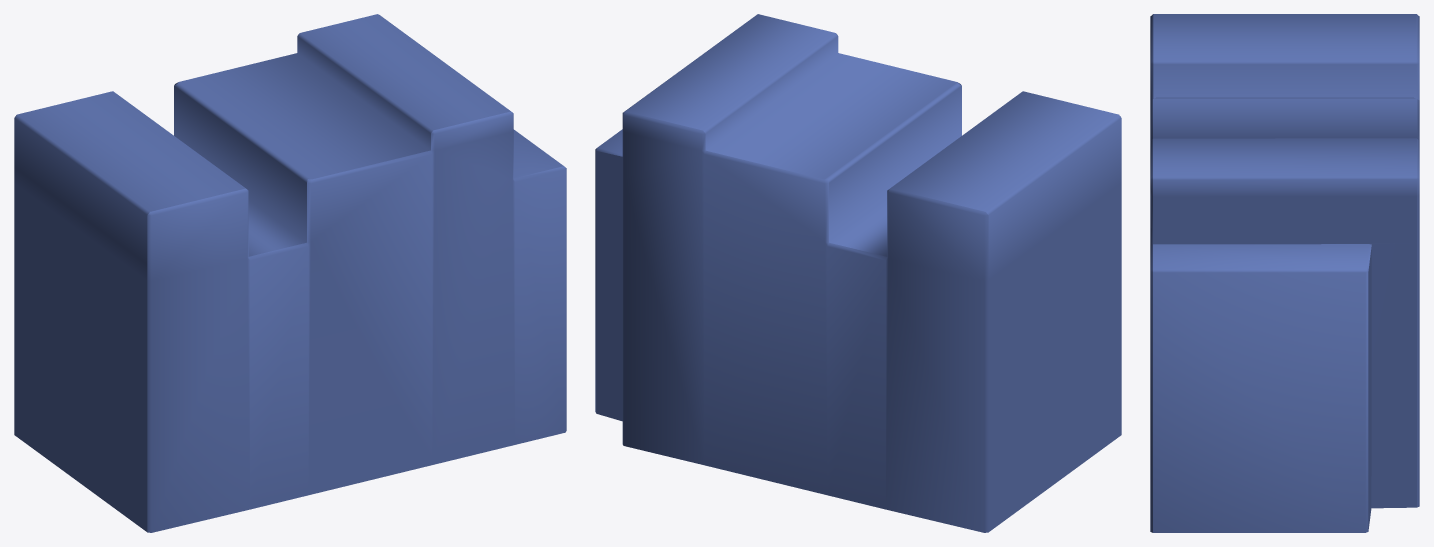
The model's file is Books_D.FBX.
The picture shows the model from 3 angles, left to right: view 1: azimuth 30°, elevation 25°; view 2: azimuth 150°, elevation 25°; view 3: azimuth 270°, elevation 25°; orthographic projection.
Parts seen in each view (by area): view 1: Books_D; view 2: Books_D; view 3: Books_D.
Boxes of the visible parts, x1,y1,x2,y2 form: Books_D: (14,14,566,532); Books_D: (595,14,1121,532); Books_D: (1150,14,1419,532).
Size of the model in its own units: 35.3 by 26.89 by 19.85.
